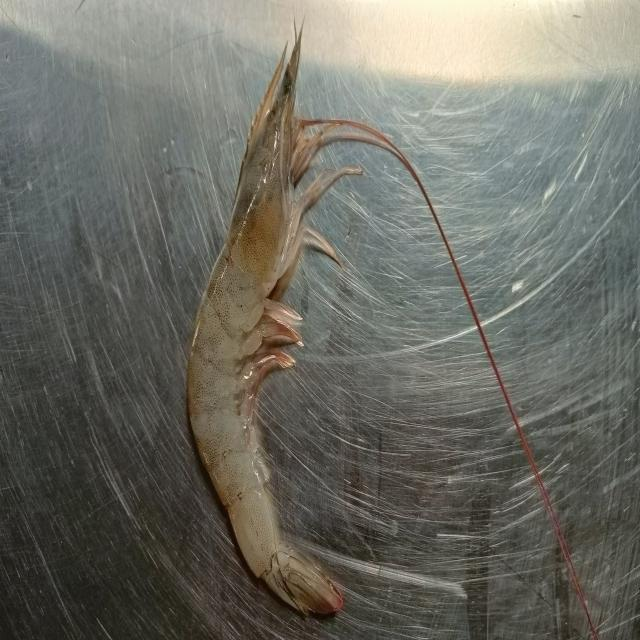shrimp: (186, 25, 346, 619)
